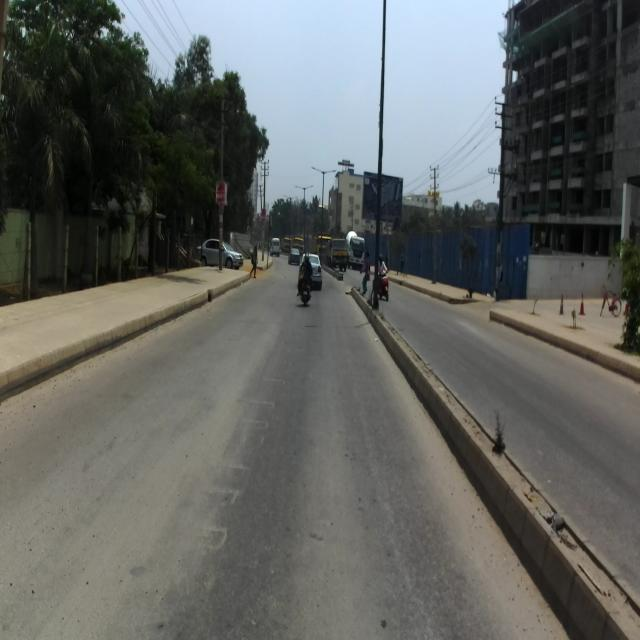electric pole ahead at: (210, 76, 240, 277)
motorcycle ahead at: (296, 253, 315, 310)
